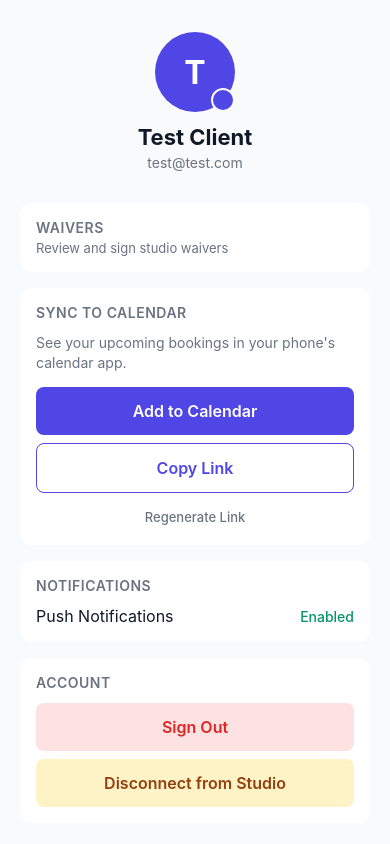
Test case: ProfileScreen — Calendar Sync section › copies the raw https:// feed URL to the clipboard and shows confirmation
Click the text "Copy Link": (195, 468) [157,458,233,478]
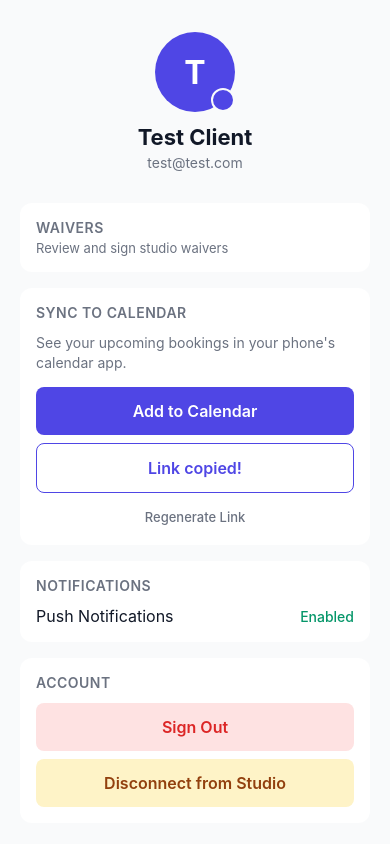
Expected: the text "Link copied!" is shown, [148,458,242,478]
